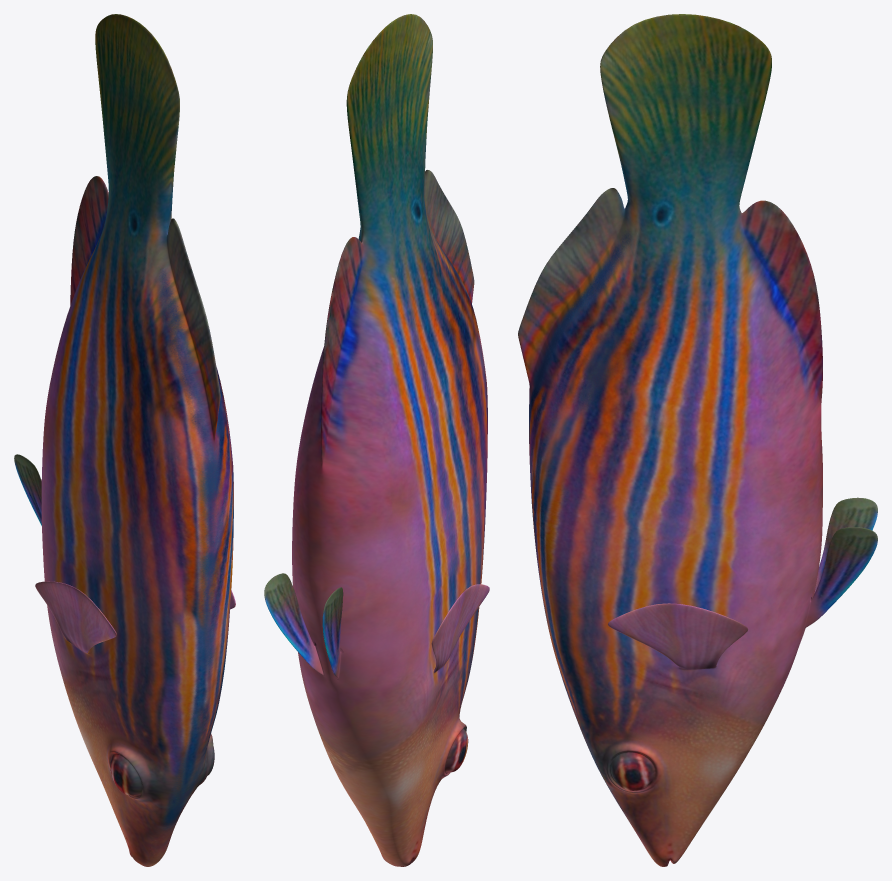
Rendered from 13014_Six_Line_Wrasse_v1_l3.obj.
3 renders of one model, left to right at view 1: azimuth 30°, elevation 25°; view 2: azimuth 150°, elevation 25°; view 3: azimuth 270°, elevation 25°, orthographic.
Visible parts, largest first — view 1: 13014_Six_Line_Wrasse_v1; view 2: 13014_Six_Line_Wrasse_v1; view 3: 13014_Six_Line_Wrasse_v1.
Boxes of the visible parts, <box> form: 13014_Six_Line_Wrasse_v1: <box>14,14,235,866</box>; 13014_Six_Line_Wrasse_v1: <box>264,14,489,866</box>; 13014_Six_Line_Wrasse_v1: <box>518,14,877,866</box>.
Bounding box in the file's own units: 1.29 × 7.13 × 2.73.
Materials: 1 (1 with a texture image).
